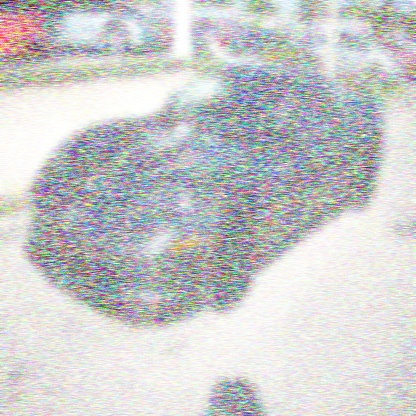Vehicle: (32, 68, 386, 323)
